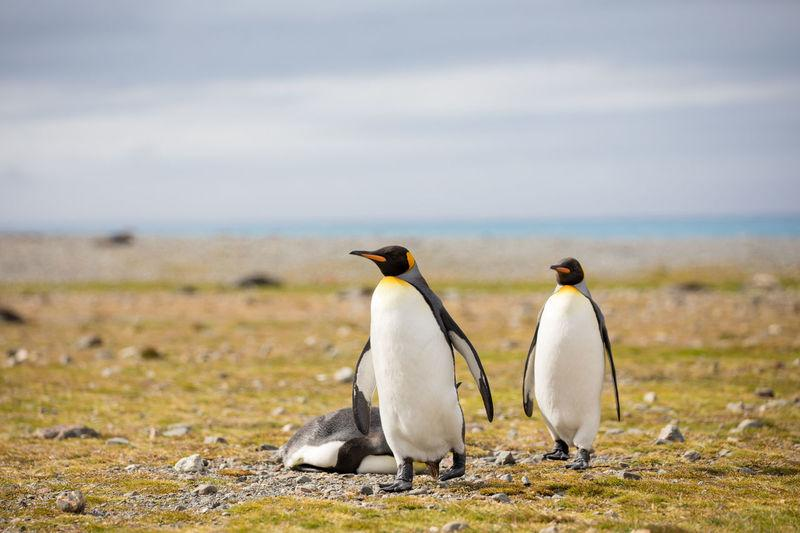king: (293, 187, 493, 522), (519, 233, 643, 484)
